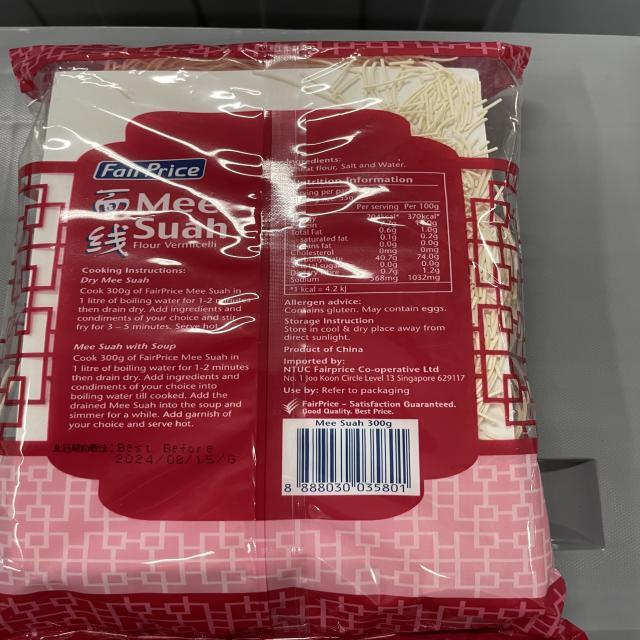object_name: (18, 48, 535, 633)
